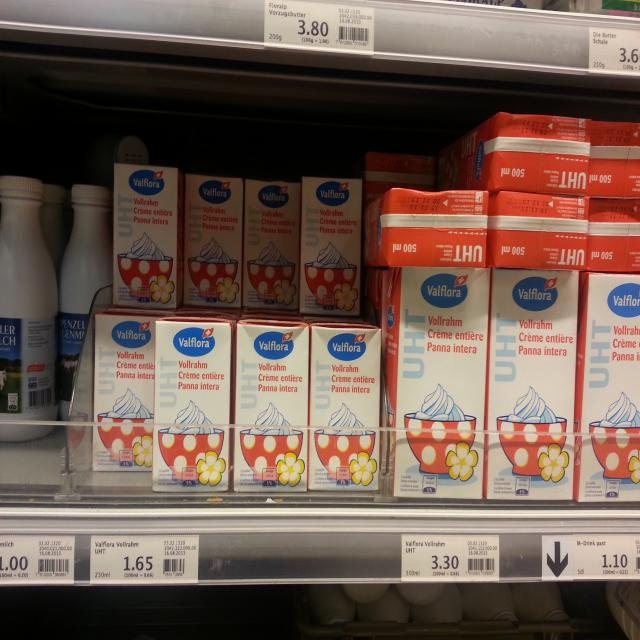Creme: (382, 269, 492, 504), (489, 263, 577, 505), (93, 307, 171, 493), (579, 268, 640, 503), (154, 316, 228, 492), (236, 318, 309, 495), (308, 325, 382, 491), (447, 114, 590, 194), (114, 160, 182, 310), (366, 188, 488, 268), (302, 175, 361, 316), (182, 174, 242, 310), (243, 180, 300, 316), (491, 191, 590, 267)
